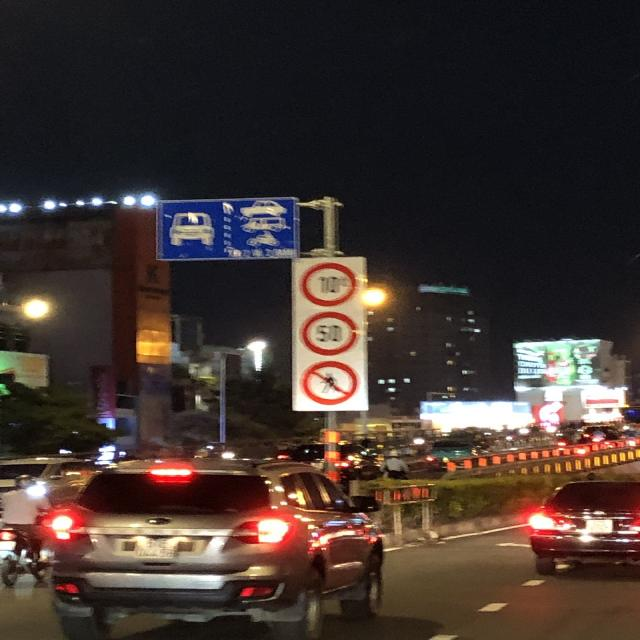Bien bao toc do toi da cho phep: (297, 308, 357, 359)
